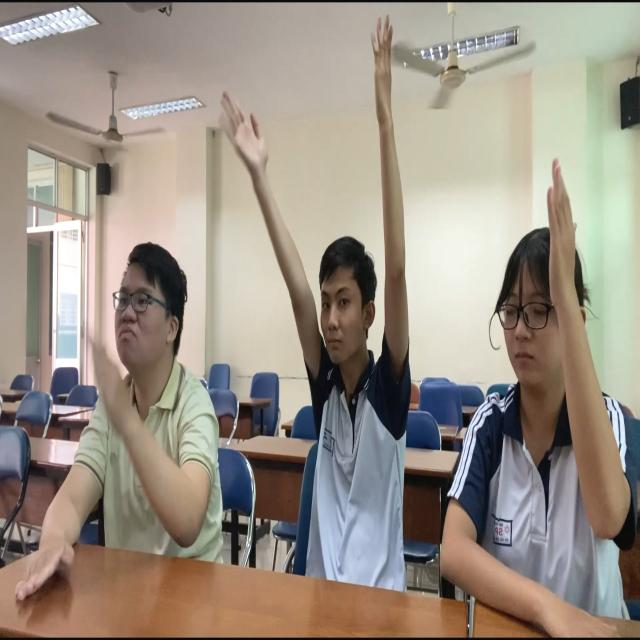raise_hand: (421, 147, 640, 624)
